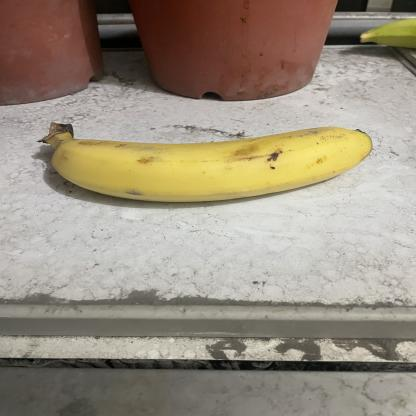banana: (34, 116, 376, 206)
